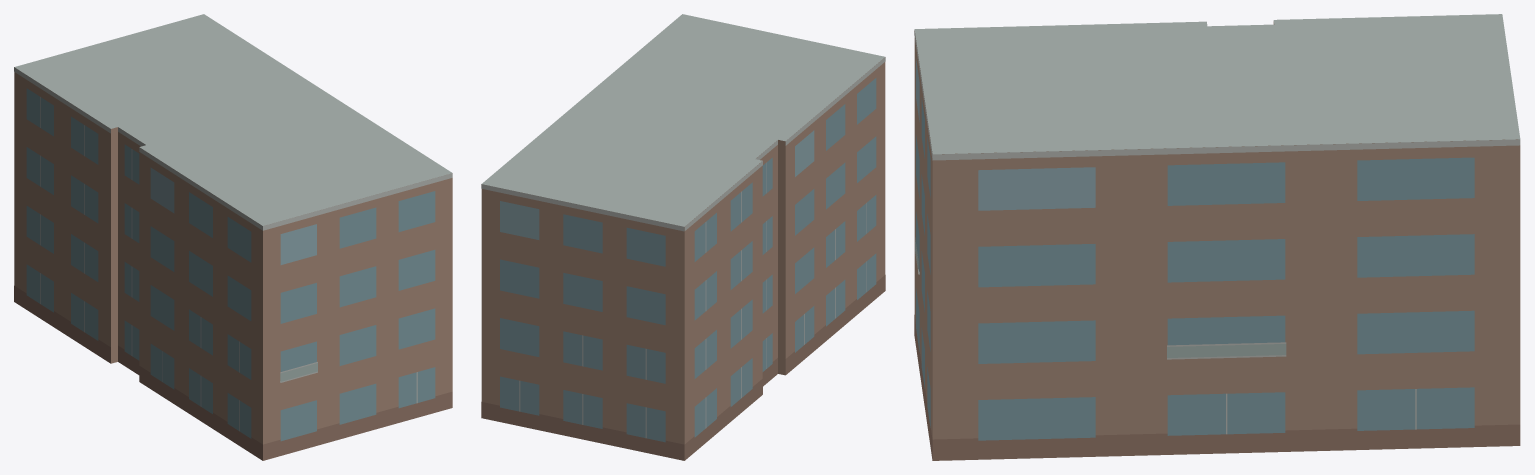
Rendered from survey-upis-32655501.glb.
The picture shows the model from 3 angles, left to right: view 1: azimuth 30°, elevation 25°; view 2: azimuth 150°, elevation 25°; view 3: azimuth 270°, elevation 25°; orthographic projection. The views are drawn at different scales.
Visible parts, largest first — view 1: survey-upis-32655501.tmp; view 2: survey-upis-32655501.tmp; view 3: survey-upis-32655501.tmp.
Part boxes in pixels (x1,y1,x2,y2): survey-upis-32655501.tmp: (14,14,452,460); survey-upis-32655501.tmp: (481,14,885,460); survey-upis-32655501.tmp: (914,14,1520,460).
Size of the model in its own units: 11.99 by 12.2 by 21.87.
